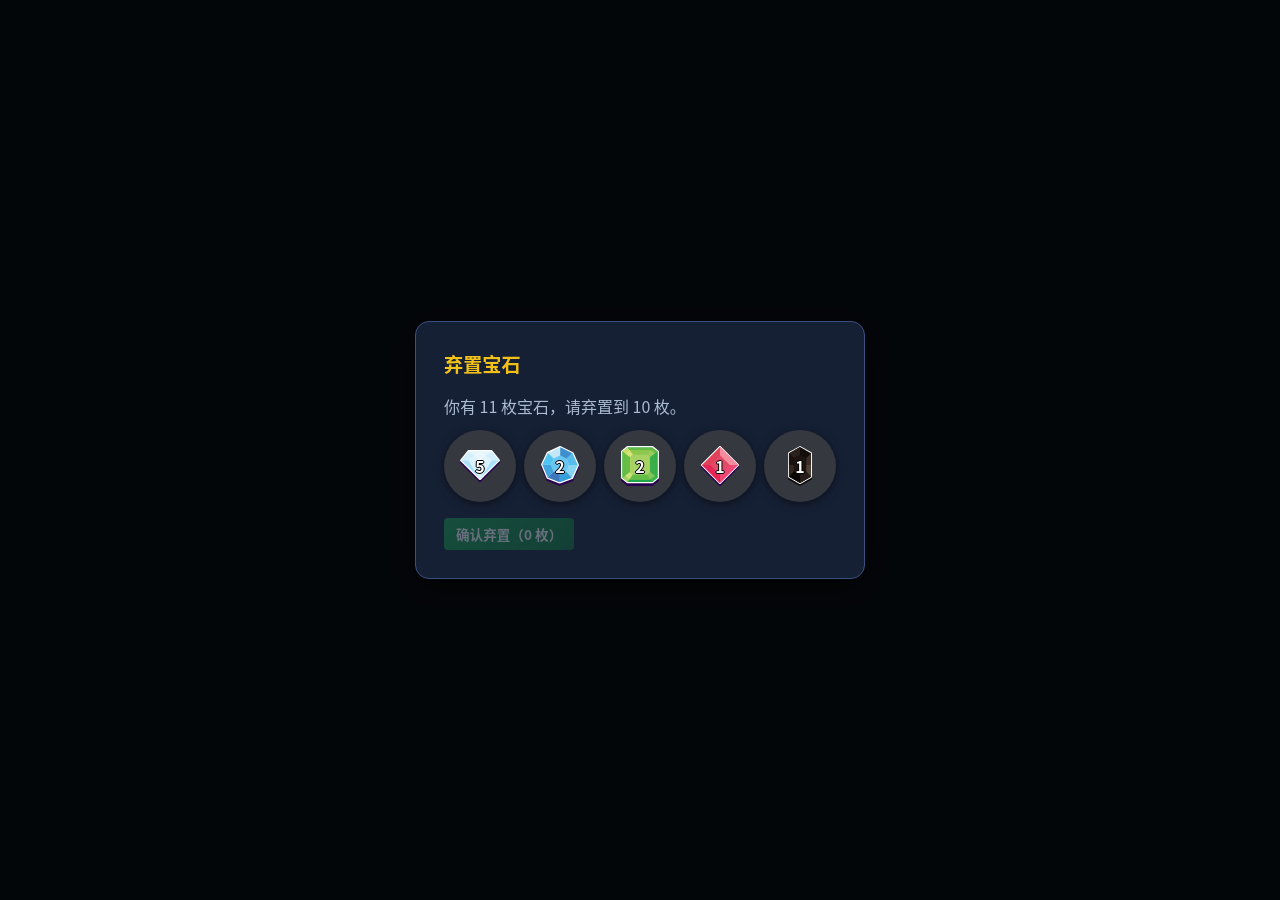
Scenario: Chinese local outcome and required-action dialogs › explains the gem limit and labels discard and undo controls
Expected: the dialog "弃置宝石" is shown, x1=415 y1=321 x2=865 y2=579
Expected: the text "你有 11 枚宝石，请弃置到 10 枚。" is shown, x1=444 y1=394 x2=686 y2=418
Click the button named "弃置 1 枚白色宝石，当前选择弃置 0 枚": x=480, y=466 x1=444 y1=430 x2=516 y2=502
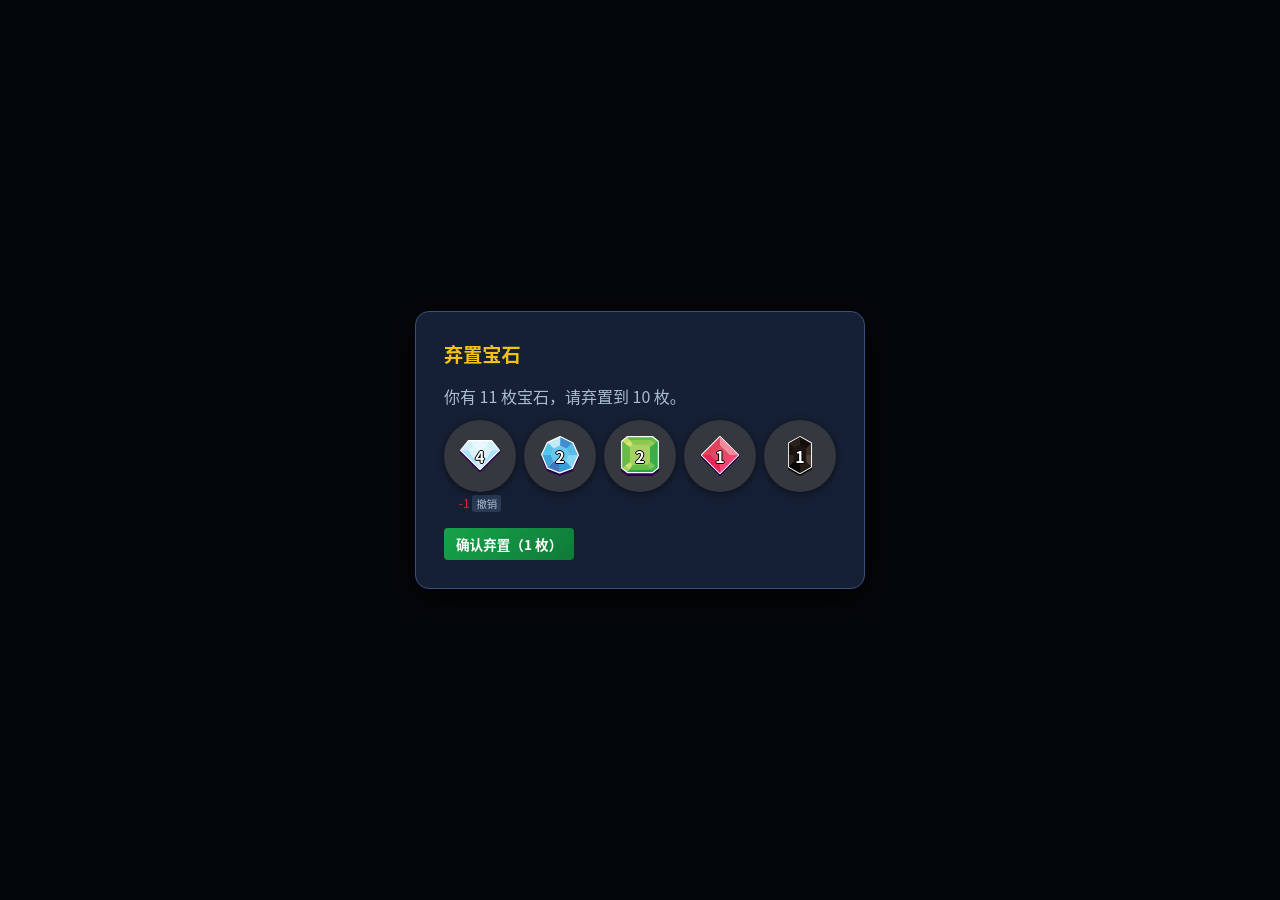
Expected: the button "确认弃置（1 枚）" is enabled, x1=444 y1=528 x2=574 y2=560
Expected: the button with aria-label "撤销弃置 1 枚白色宝石" is shown, x1=472 y1=495 x2=501 y2=512
